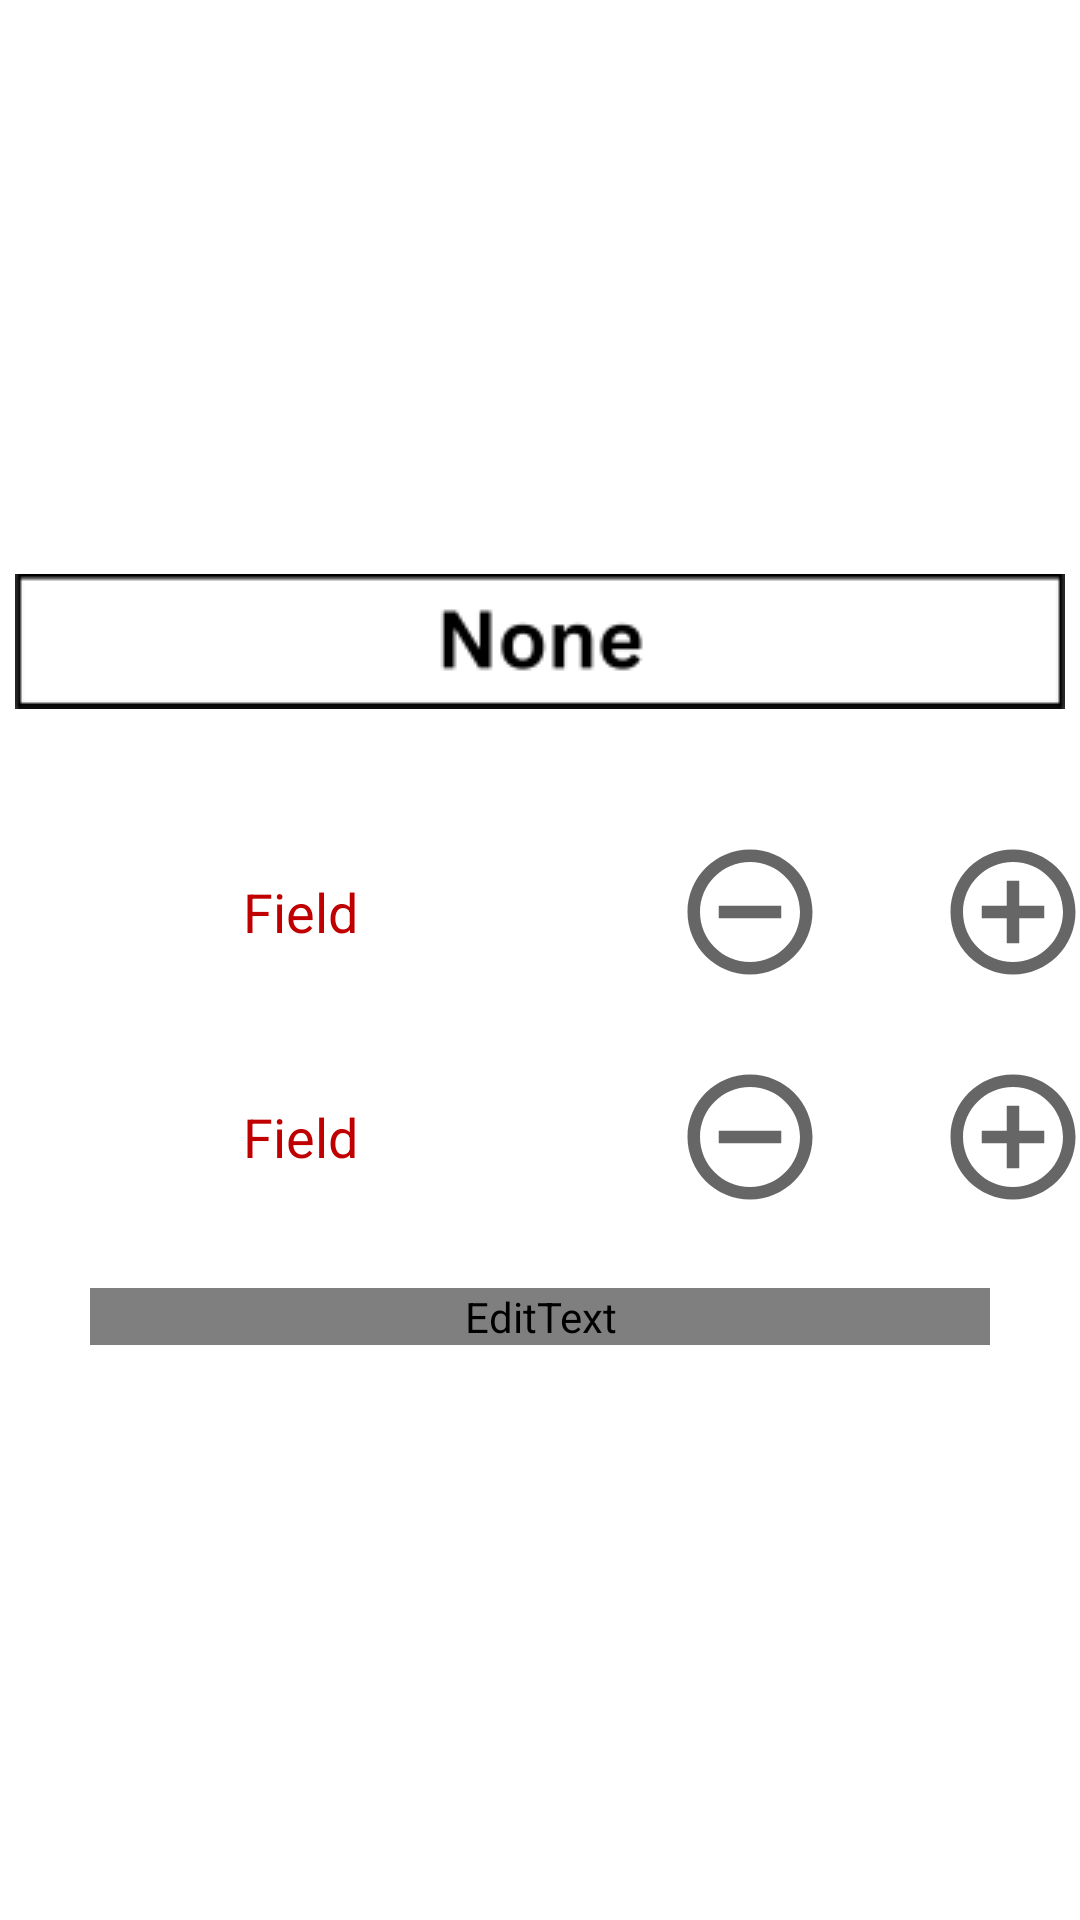

Locate icon controls on the screen. Image size 1080w x 1920h, boxes as (x1,y1,x2,y2).
remove circle: (687,849,813,975), (687,1074,813,1200)
